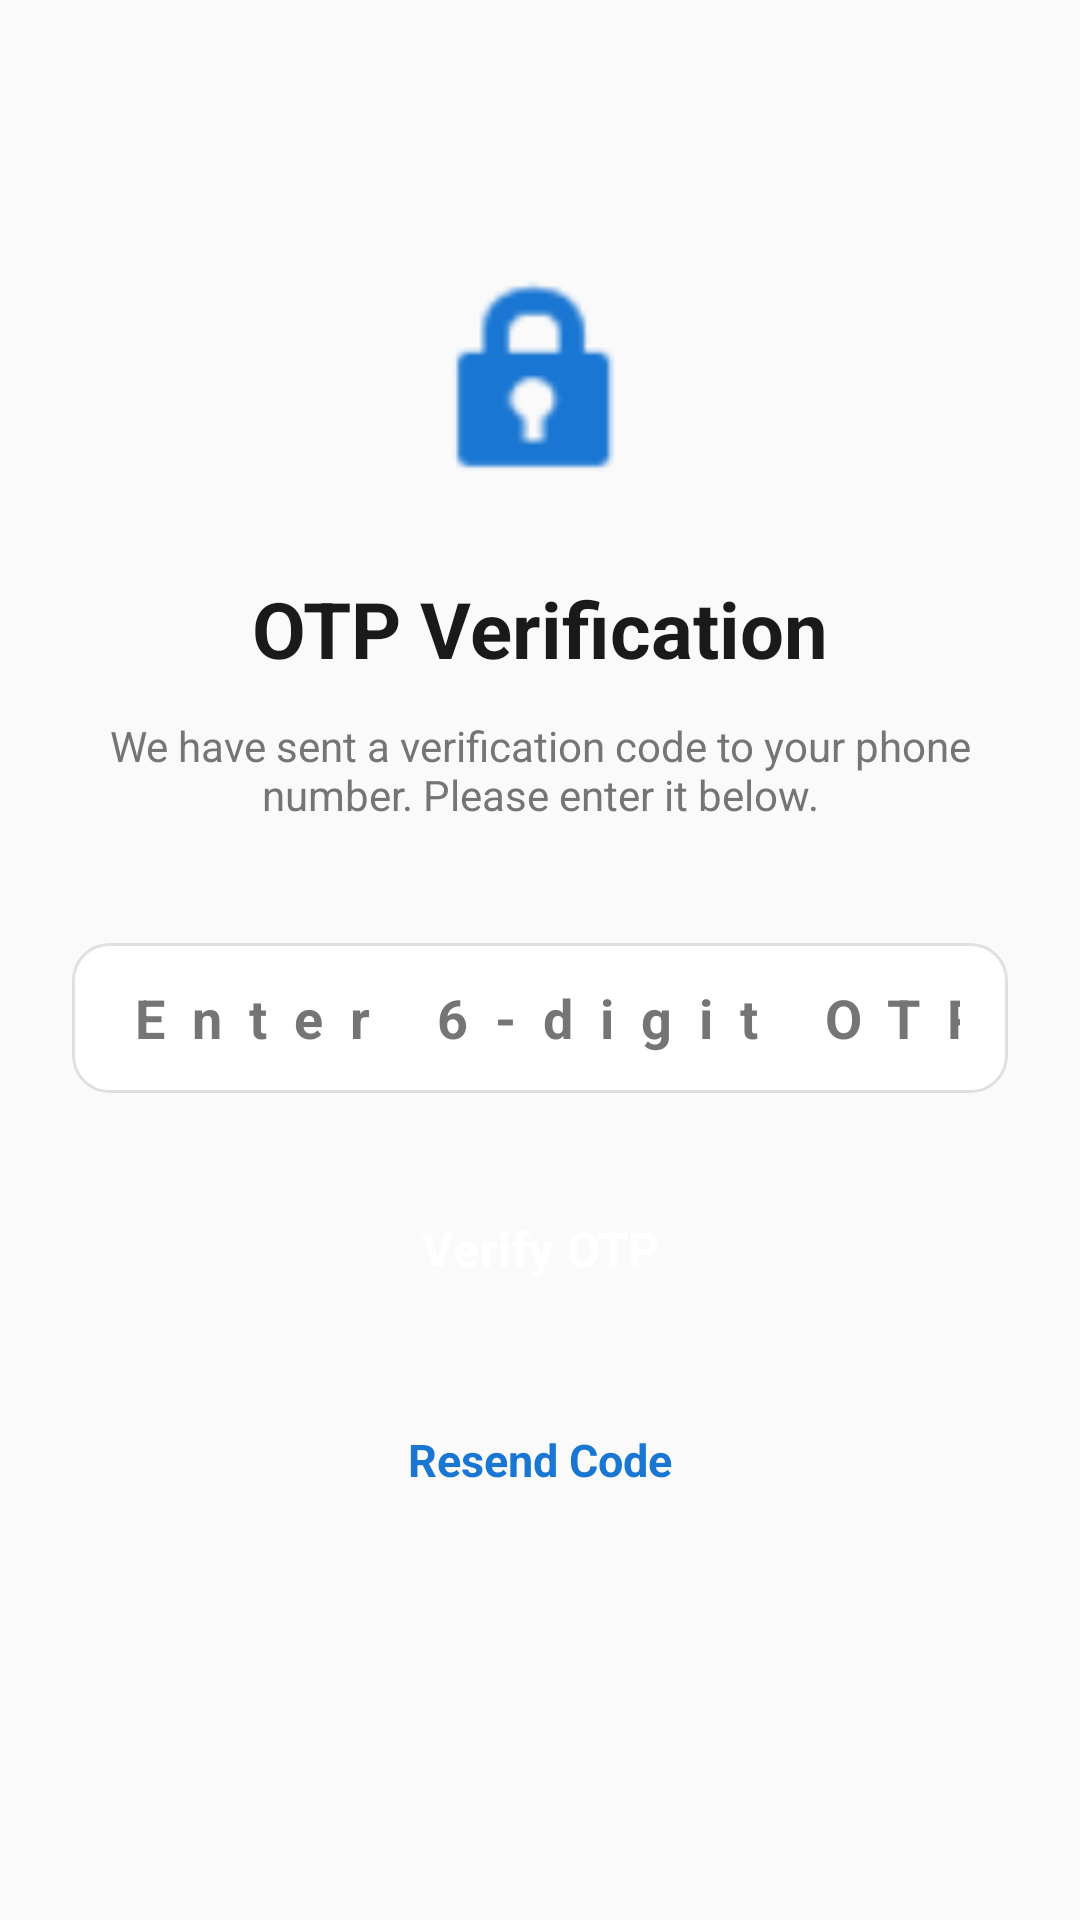

Icon bounding boxes for this 1080px x 1920px phone screenshot, format (x1, y1, x2, y2):
OTP Lock Icon: (456, 284, 613, 468)
